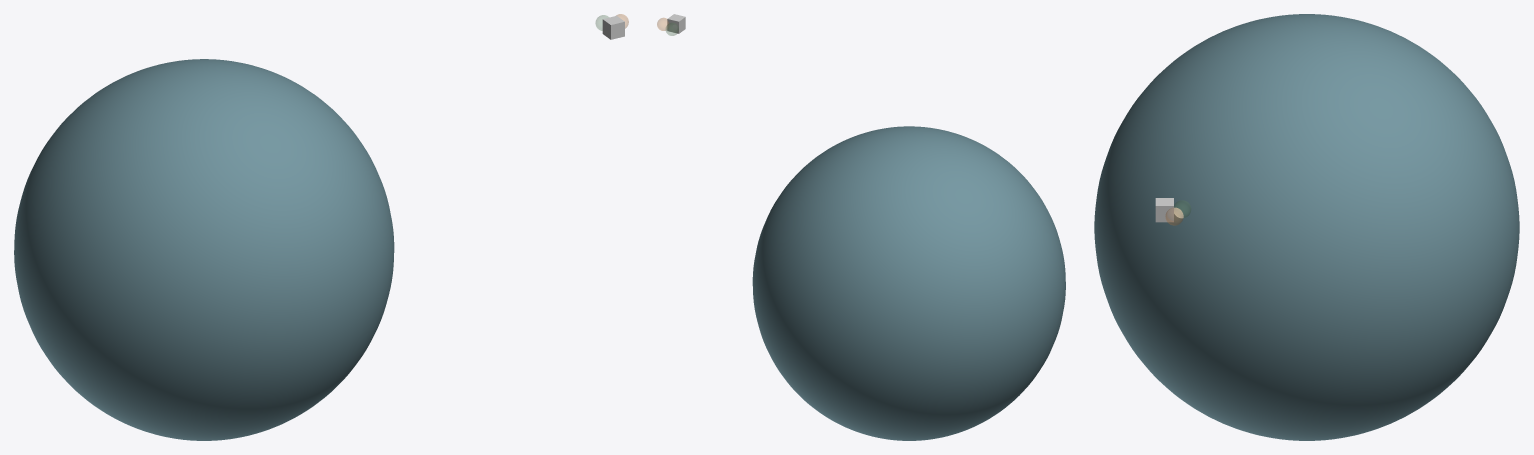
File: orb.fbx
3 renders of one model, left to right at view 1: azimuth 30°, elevation 25°; view 2: azimuth 150°, elevation 25°; view 3: azimuth 270°, elevation 25°, orthographic. The views are drawn at different scales.
Visible parts, largest first — view 1: Sphere; view 2: Sphere; view 3: Sphere, player.
Boxes of the visible parts, left/top/right/bottom form: Sphere: left=14, top=59, right=394, bottom=440; Sphere: left=752, top=126, right=1065, bottom=440; Sphere: left=1094, top=14, right=1519, bottom=440; player: left=1155, top=198, right=1173, bottom=222.
Size of the model in its own units: 74.85 by 49.35 by 46.61.
